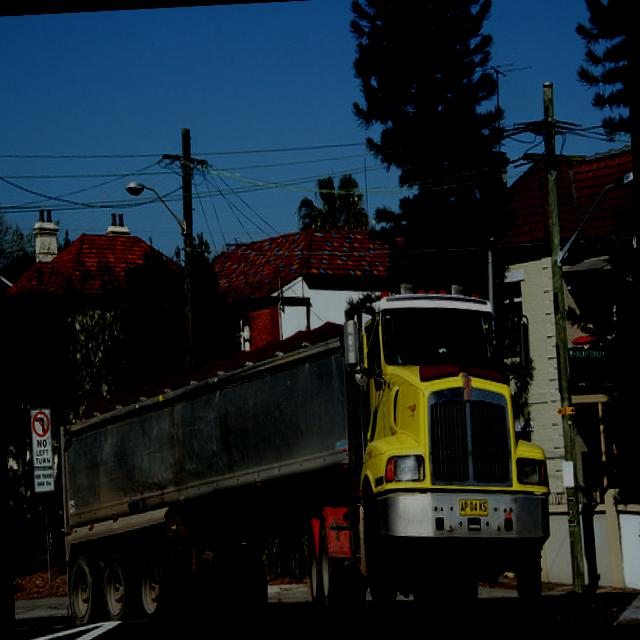Vehicle: (53, 278, 556, 628)
